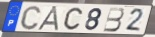2: (124, 7, 146, 33)
8: (84, 7, 102, 32)
A: (36, 5, 61, 32)
B: (102, 7, 125, 33)
C: (19, 5, 43, 31), (63, 7, 84, 31)
